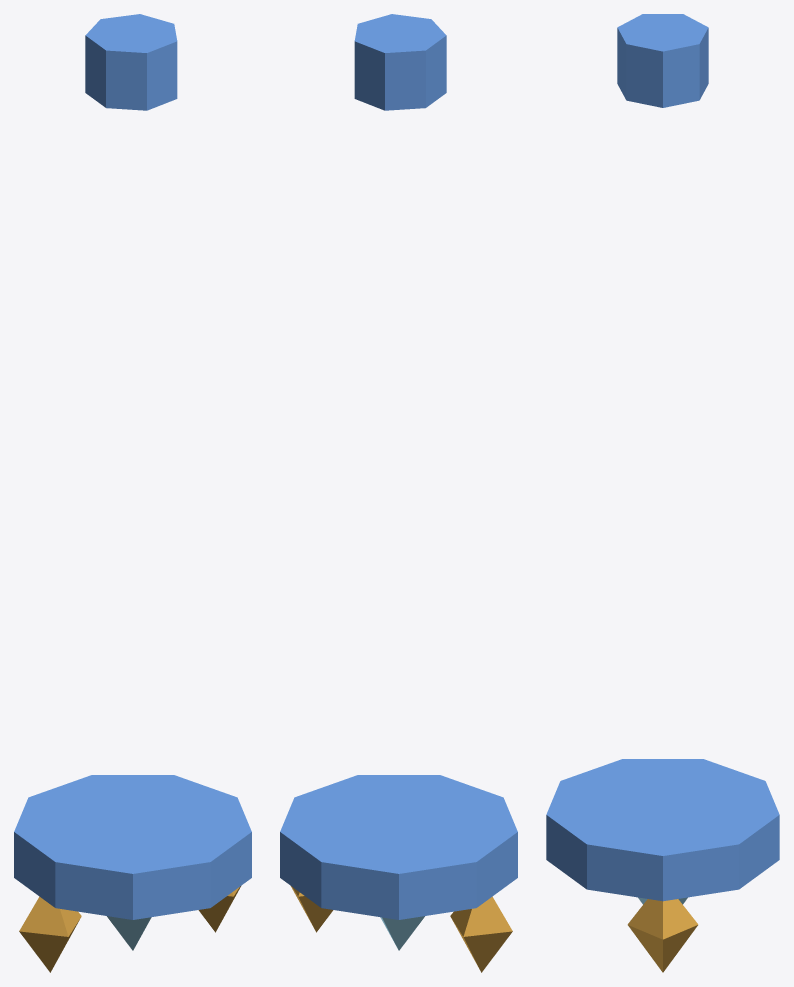
The model's file is custom_broom_laco_lunar.obj.
The picture shows the model from 3 angles, left to right: view 1: azimuth 30°, elevation 25°; view 2: azimuth 150°, elevation 25°; view 3: azimuth 270°, elevation 25°; orthographic projection.
Size of the model in its own units: 0.414 by 1.6 by 0.3742.
